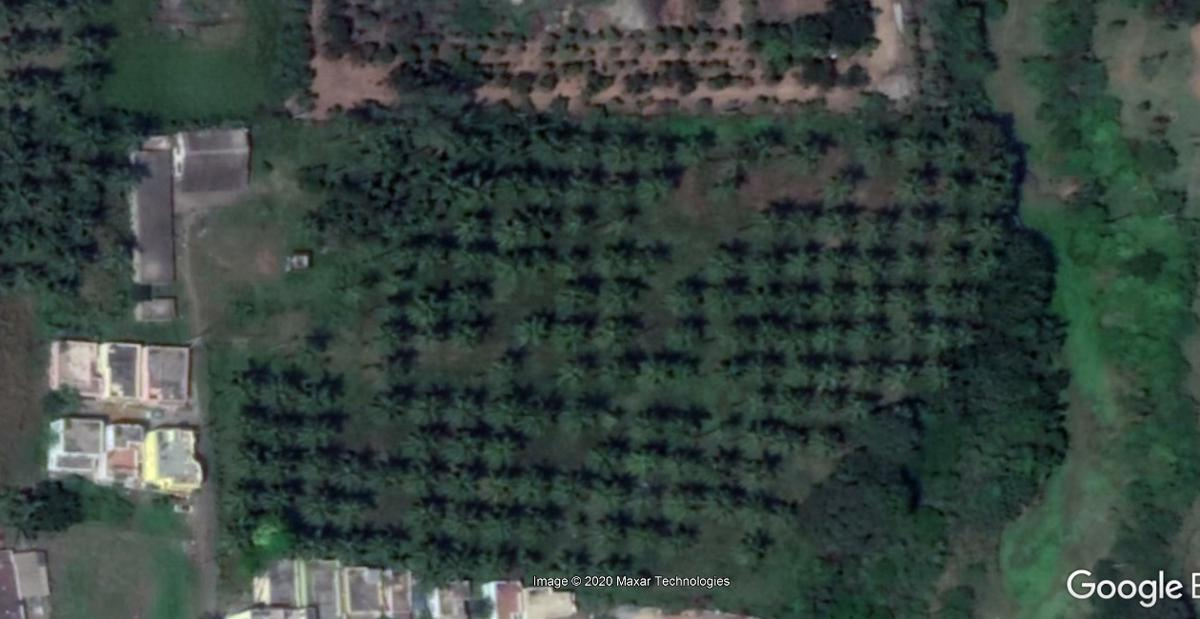coconut: (362, 525, 411, 568), (550, 547, 594, 591), (414, 385, 455, 431), (59, 120, 106, 159), (604, 276, 648, 316), (599, 241, 650, 275), (1, 64, 47, 100), (485, 440, 535, 473), (697, 480, 738, 520), (661, 279, 700, 321), (59, 26, 103, 63), (471, 543, 516, 579), (369, 386, 410, 425), (860, 318, 901, 357), (669, 346, 706, 389), (550, 359, 596, 393), (596, 317, 637, 355), (520, 398, 562, 435), (729, 529, 771, 566), (54, 64, 101, 97), (0, 136, 36, 179), (453, 386, 488, 430), (0, 180, 36, 222), (437, 168, 473, 210), (746, 447, 784, 486), (325, 527, 366, 563), (443, 434, 484, 470), (746, 123, 780, 166), (449, 221, 494, 253), (629, 355, 669, 391), (407, 454, 443, 493), (668, 408, 720, 435), (562, 173, 602, 208), (920, 359, 961, 393), (606, 132, 639, 174), (494, 219, 529, 258), (1, 21, 40, 56), (374, 452, 407, 493), (412, 535, 449, 571), (781, 384, 818, 420), (8, 257, 42, 296), (254, 484, 298, 514), (797, 128, 827, 172), (639, 176, 686, 204), (519, 320, 556, 355), (218, 483, 256, 517), (861, 241, 895, 279), (961, 246, 1000, 279), (787, 204, 819, 244), (494, 131, 525, 172), (965, 204, 1000, 240), (892, 166, 929, 200), (597, 508, 634, 542), (2, 103, 40, 136), (709, 241, 740, 281), (884, 364, 915, 404), (260, 373, 295, 408), (890, 281, 925, 316), (339, 453, 371, 491), (302, 376, 335, 412), (300, 494, 333, 530), (624, 444, 666, 472), (288, 532, 328, 561), (555, 278, 588, 313), (750, 200, 783, 235), (485, 504, 517, 540), (848, 280, 884, 312), (745, 248, 782, 279), (786, 246, 815, 285), (597, 478, 634, 508), (822, 177, 859, 207), (492, 391, 520, 430), (557, 319, 589, 353), (961, 282, 993, 316), (416, 289, 446, 325), (823, 213, 864, 239), (228, 362, 260, 395), (586, 440, 619, 472), (739, 384, 778, 411), (824, 245, 859, 275), (380, 354, 420, 380), (811, 359, 839, 396), (846, 363, 874, 400), (456, 280, 488, 312), (452, 499, 483, 532), (715, 349, 746, 382), (900, 128, 929, 163), (298, 417, 334, 445), (297, 452, 333, 480), (743, 489, 779, 517), (932, 280, 960, 316), (2, 221, 39, 248), (671, 448, 701, 481), (261, 420, 294, 449), (469, 174, 496, 209), (598, 552, 637, 576), (714, 447, 743, 479), (533, 132, 560, 166), (927, 320, 954, 354), (329, 499, 364, 525), (859, 208, 887, 240), (628, 408, 660, 436), (812, 290, 845, 317), (491, 355, 525, 381), (408, 498, 442, 524), (954, 317, 979, 352), (729, 317, 759, 346), (233, 445, 267, 470), (379, 319, 407, 349), (555, 476, 580, 507), (807, 325, 839, 349), (240, 406, 264, 436), (264, 453, 287, 479)
